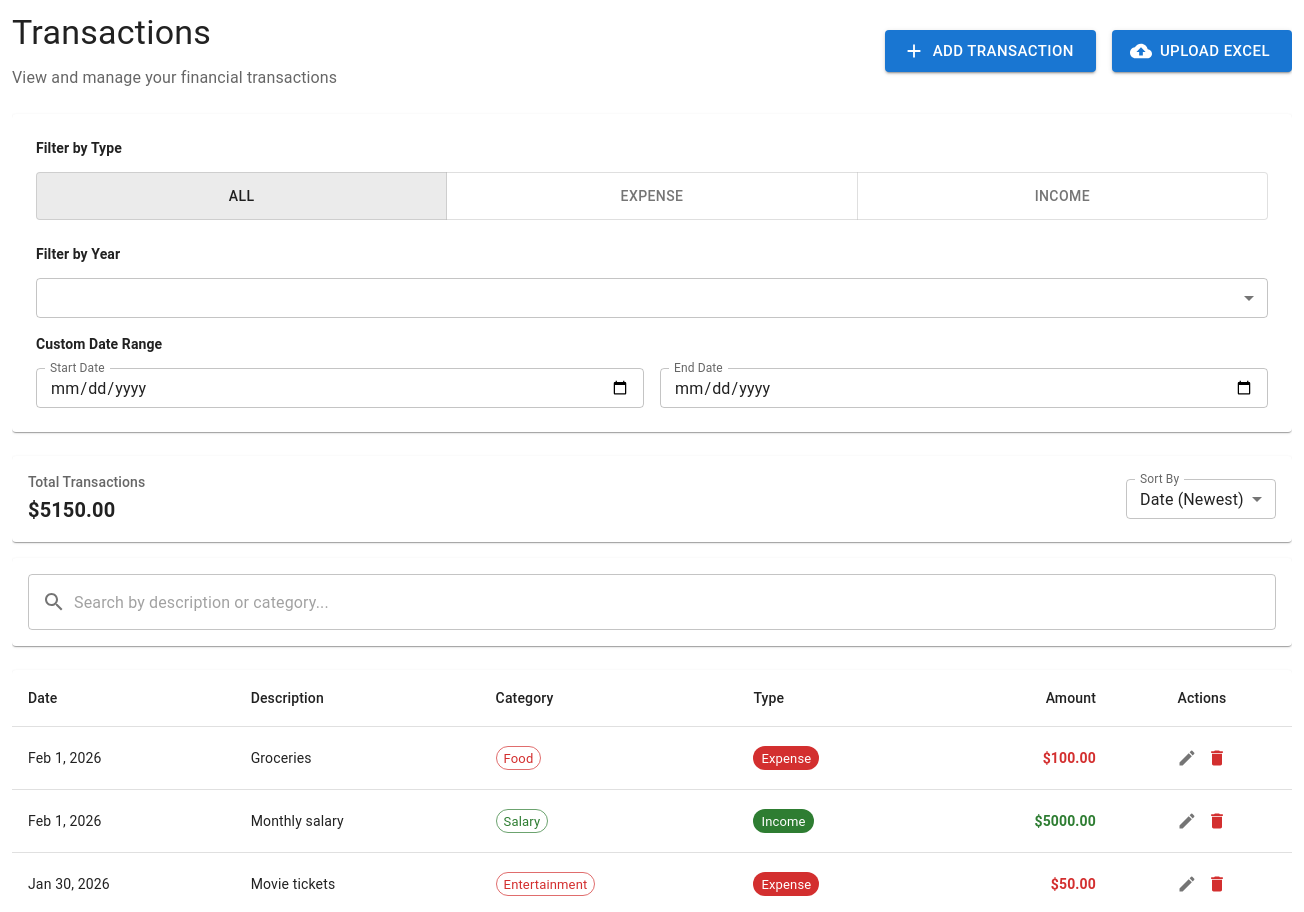
Transactions Component › can filter to show only income transactions
Check: the text "Groceries" is shown, box [235, 727, 480, 790]
# Click income filter
Click the button "Income" at (1062, 196), box [857, 172, 1268, 220]
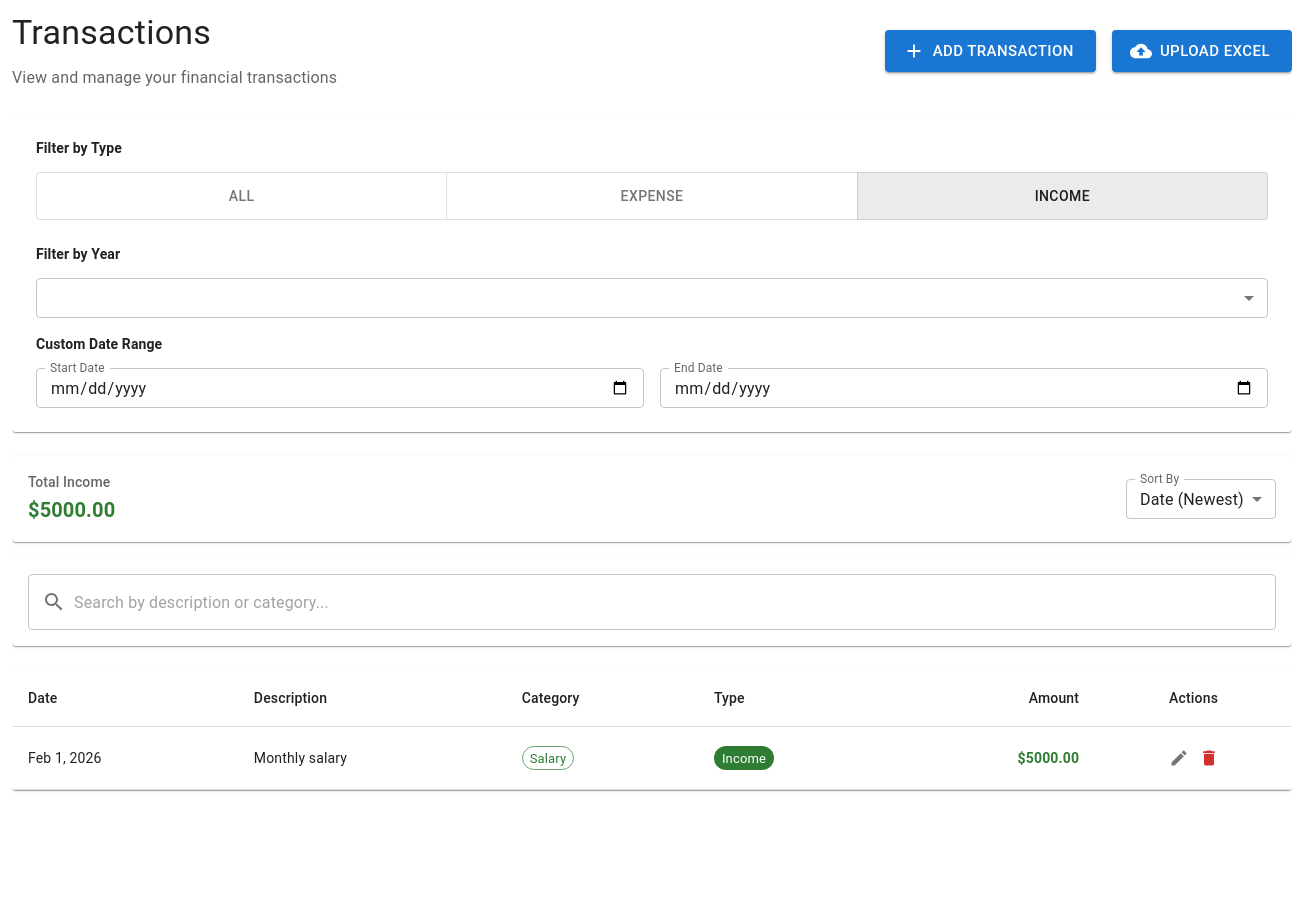
Check: the text "Monthly salary" is shown, box [238, 727, 506, 790]
Check: the text "Groceries" is gone
